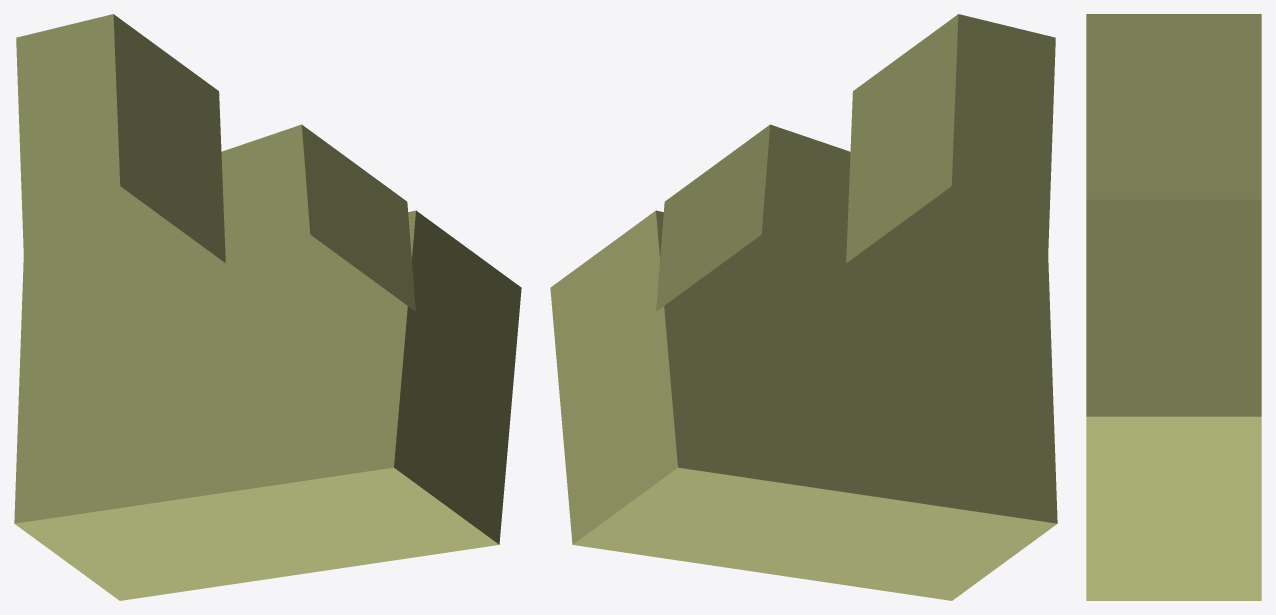
3 renders of one model, left to right at view 1: azimuth 30°, elevation 25°; view 2: azimuth 150°, elevation 25°; view 3: azimuth 270°, elevation 25°, orthographic. The views are drawn at different scales.
Visible parts, largest first — view 1: 0_1_0_0_1_3_2_2_1_0; view 2: 0_1_0_0_1_3_2_2_1_0; view 3: 0_1_0_0_1_3_2_2_1_0.
Boxes of the visible parts, left/top/right/bottom form: 0_1_0_0_1_3_2_2_1_0: left=14, top=14, right=521, bottom=600; 0_1_0_0_1_3_2_2_1_0: left=550, top=14, right=1057, bottom=600; 0_1_0_0_1_3_2_2_1_0: left=1086, top=14, right=1261, bottom=600.
Size of the model in its own units: 13.18 by 16.37 by 6.
